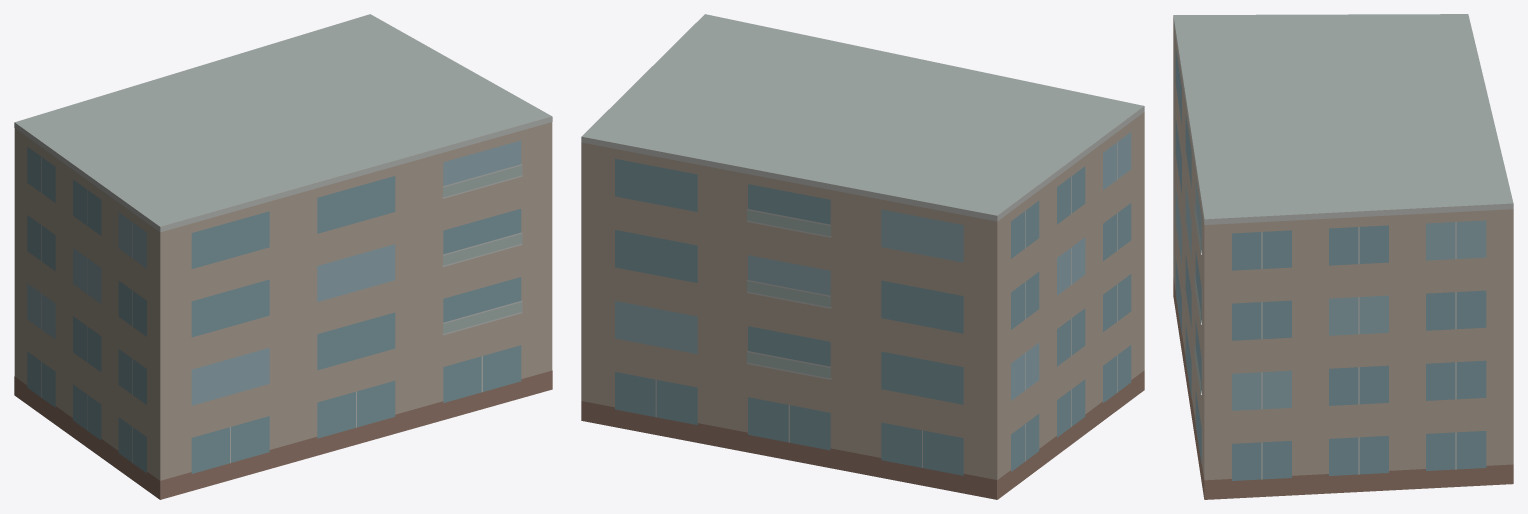
Rendered from survey-upis-32757076.glb.
3 views of the same model, side by side, from view 1: azimuth 30°, elevation 25°; view 2: azimuth 150°, elevation 25°; view 3: azimuth 270°, elevation 25° (orthographic). The views are drawn at different scales.
Parts seen in each view (by area): view 1: survey-upis-32757076.tmp; view 2: survey-upis-32757076.tmp; view 3: survey-upis-32757076.tmp.
Boxes of the visible parts, <box> form: survey-upis-32757076.tmp: <box>14,14,552,499</box>; survey-upis-32757076.tmp: <box>581,14,1144,499</box>; survey-upis-32757076.tmp: <box>1173,14,1513,499</box>.
Size of the model in its own units: 18.84 by 12 by 13.2.
